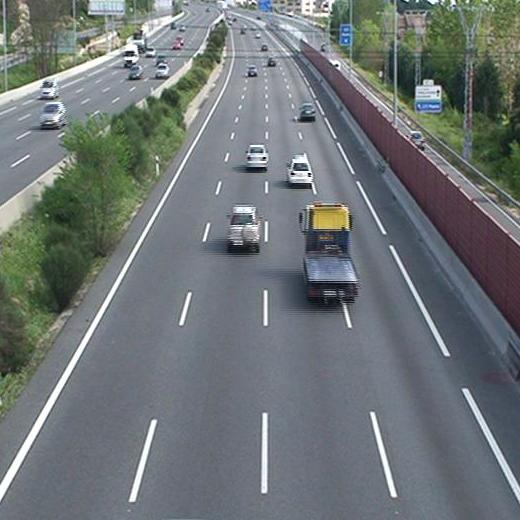car: (225, 205, 261, 250), (286, 156, 315, 186), (244, 144, 271, 169), (298, 102, 318, 121), (246, 66, 258, 78)
small-truck: (297, 203, 360, 303)
